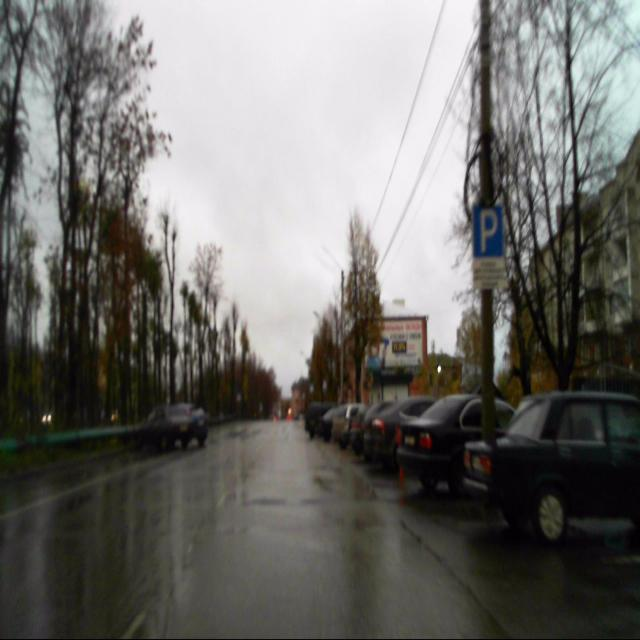road sign: (472, 205, 503, 259)
